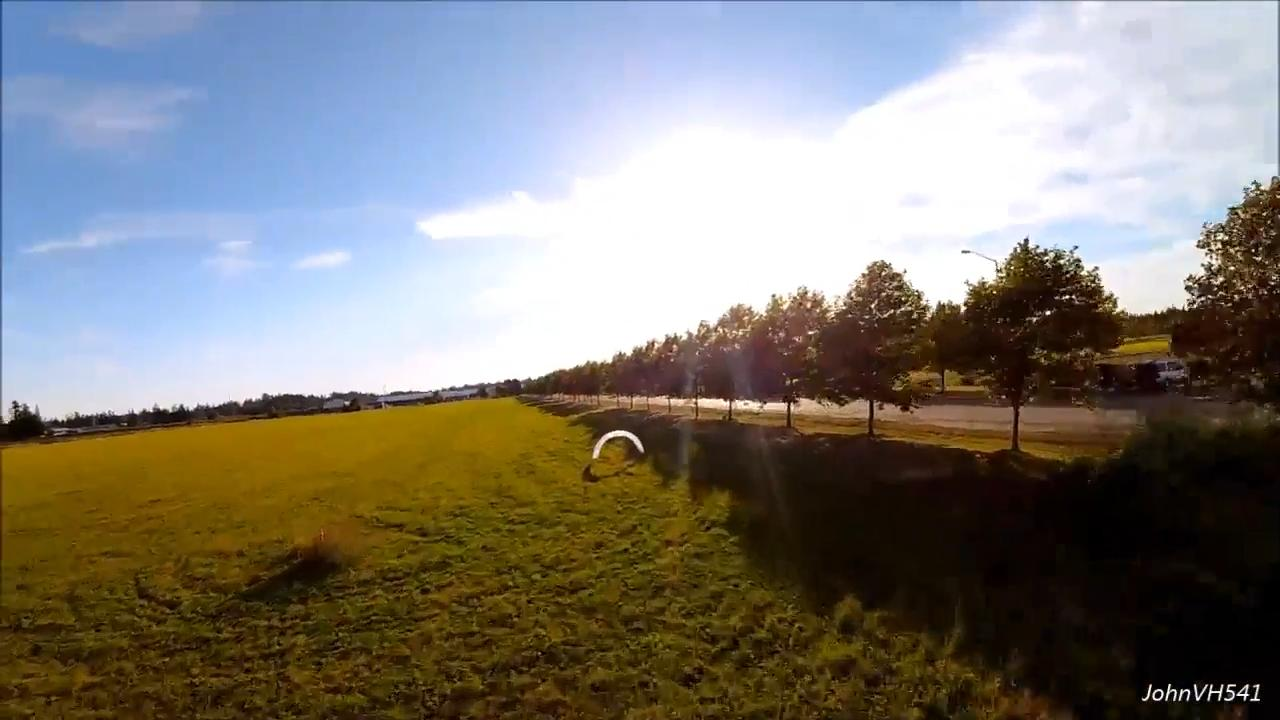gate: (591, 429, 644, 461)
